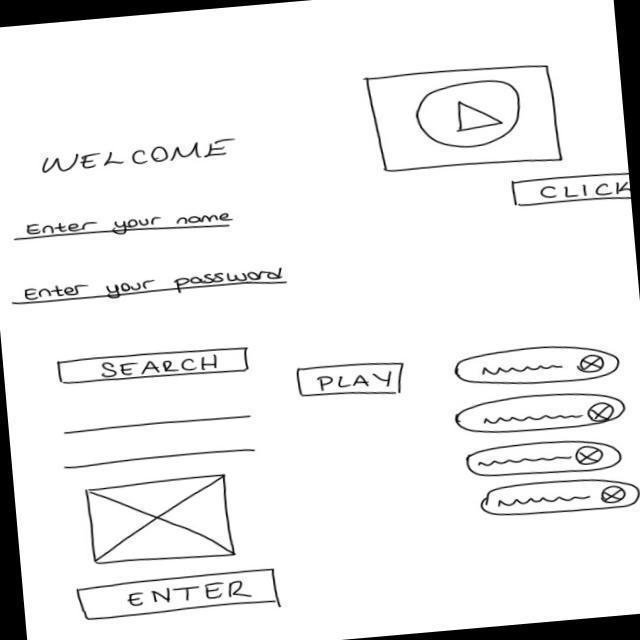button: (76, 566, 282, 624), (55, 342, 253, 391), (509, 169, 632, 214), (295, 358, 408, 404)
image: (83, 471, 238, 570)
input: (9, 263, 292, 312), (12, 206, 237, 248)
label: (39, 135, 242, 178)
